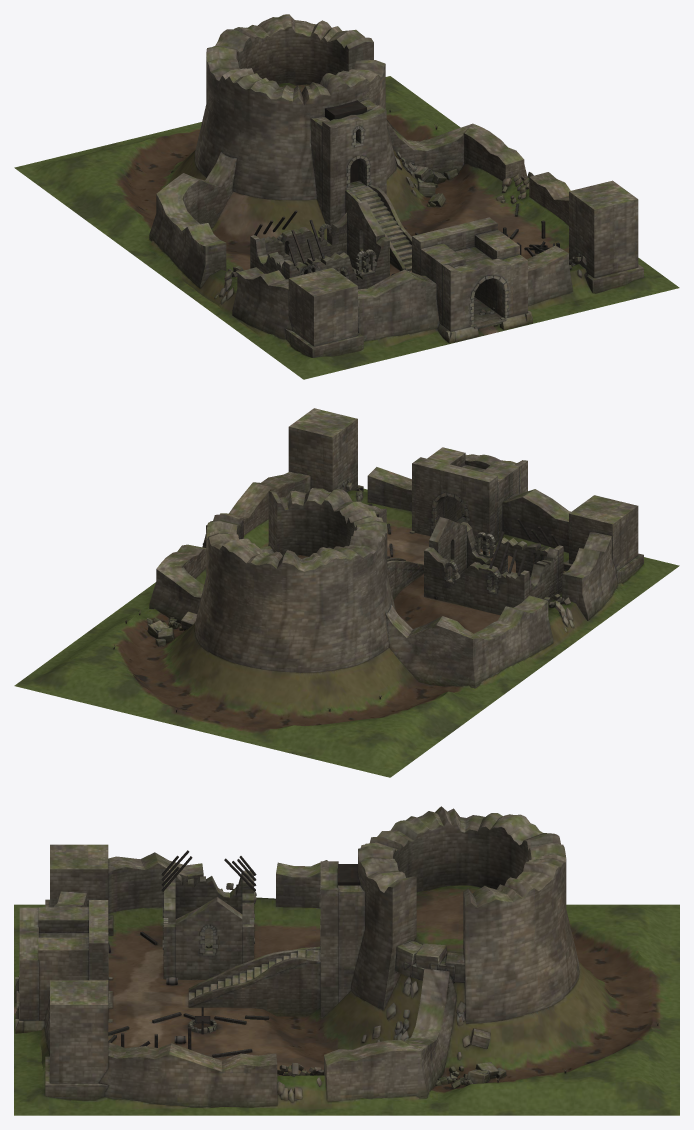
Rendered from shell_keep_ruin.glb.
3 views of the same model, one above another, from view 1: azimuth 30°, elevation 25°; view 2: azimuth 150°, elevation 25°; view 3: azimuth 270°, elevation 25° (orthographic). The views are drawn at different scales.
Parts seen in each view (by area): view 1: shell_keep_ruin_LOD0; view 2: shell_keep_ruin_LOD0; view 3: shell_keep_ruin_LOD0.
Part boxes in pixels (left/top/right/bottom): shell_keep_ruin_LOD0: left=14, top=14, right=679, bottom=379; shell_keep_ruin_LOD0: left=14, top=408, right=679, bottom=777; shell_keep_ruin_LOD0: left=14, top=806, right=679, bottom=1115.
Size of what is drawn, in the model's own units: 36 by 13.05 by 48.
Materials: 1 (1 with a texture image).
